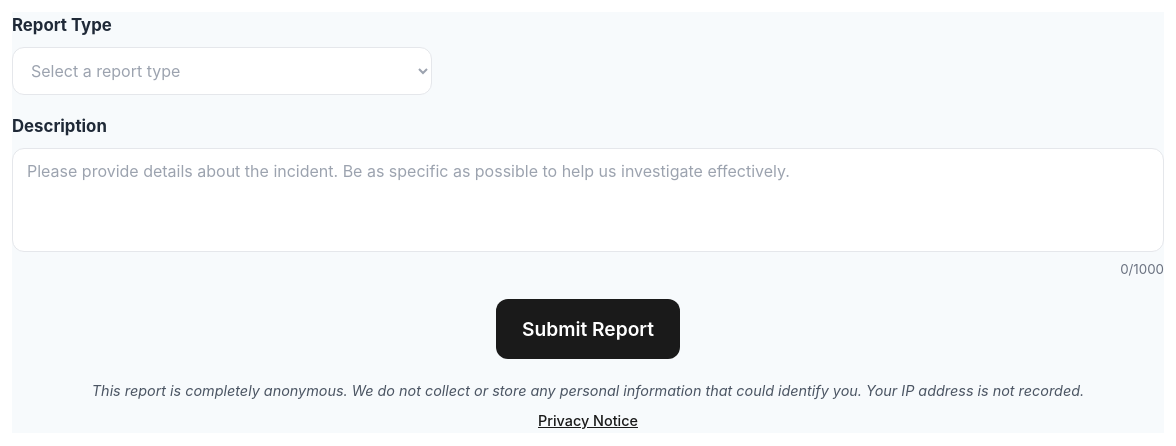
Test case: ReportForm › should show character count
Type "Hello world" into the text box labelled "Description" at point(588, 200), box x1=12 y1=148 x2=1164 y2=252
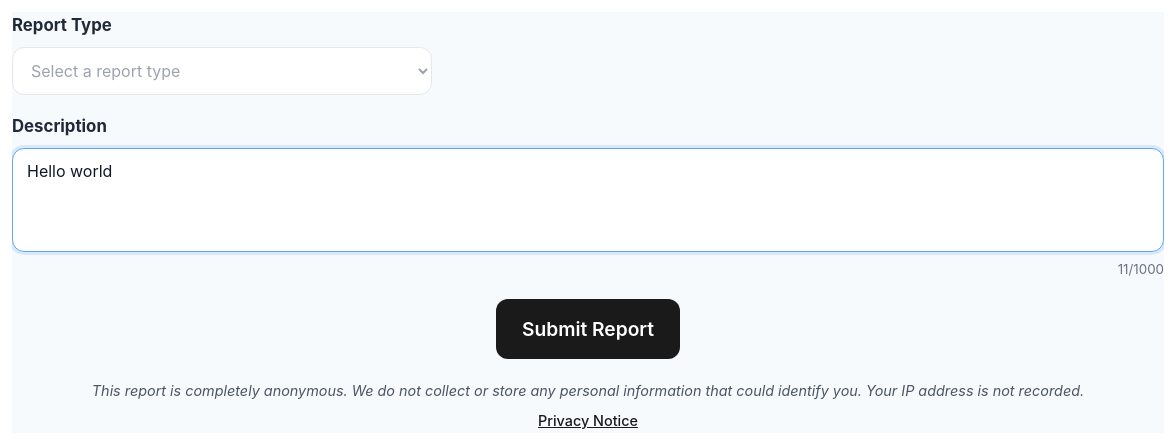
expect the text "11/1000" is shown: met, box x1=1118 y1=261 x2=1164 y2=277
